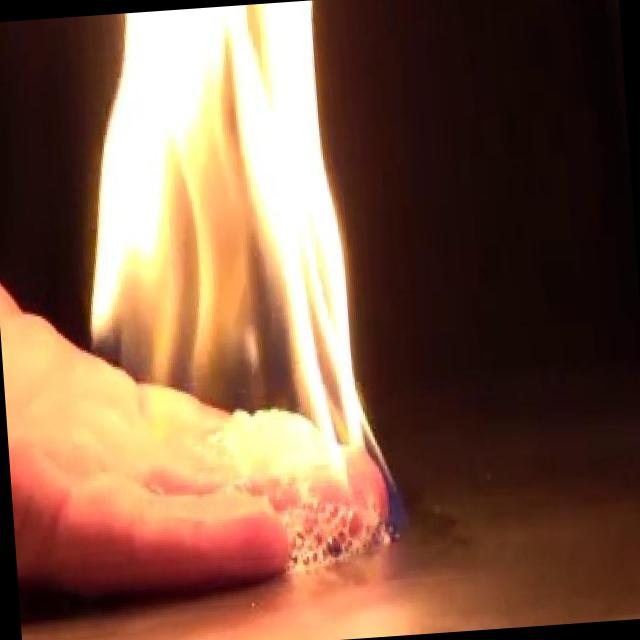Fire: (56, 0, 388, 549)
